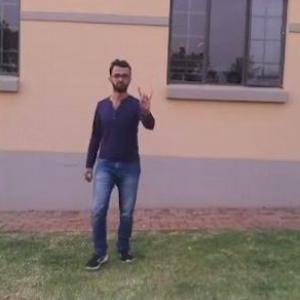takeoff-hand: (132, 78, 160, 120)
